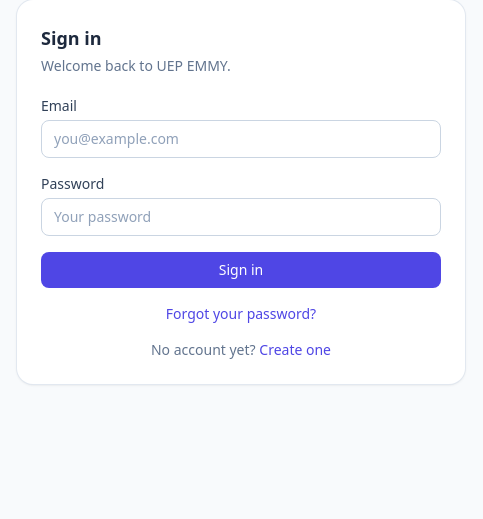
Test: signing in with an unconfirmed address › explains the block and links to the resend page
Step 1. Type "alex@example.com" into the field labelled "Email" → (241, 139), box [41,120,441,158]
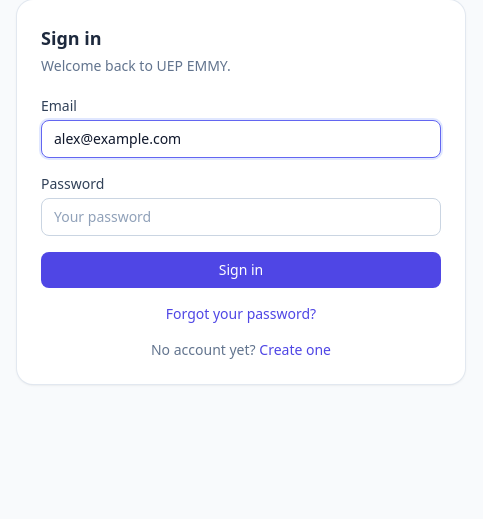
Step 2. Type "hunter2hunter2" into the password field labelled "Password" → (241, 217), box [41,198,441,236]
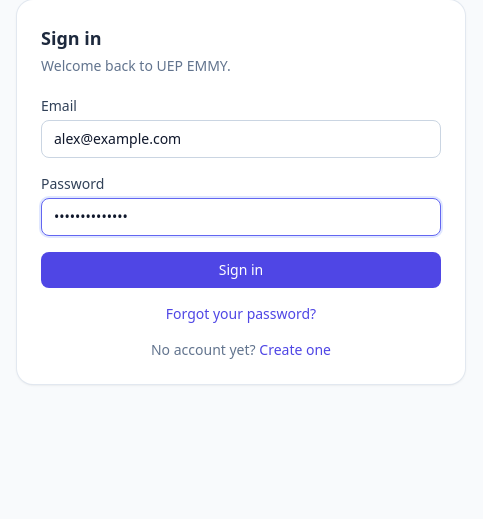
Step 3. Click the button "Sign in" → (241, 270), box [41,252,441,288]
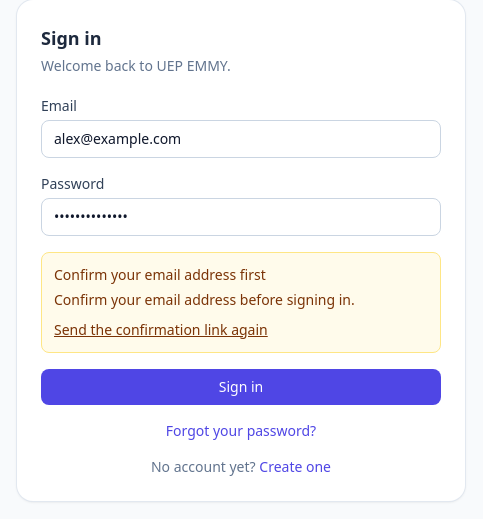
Now the text "Confirm your email address first" is shown, box [54,265,266,284]
